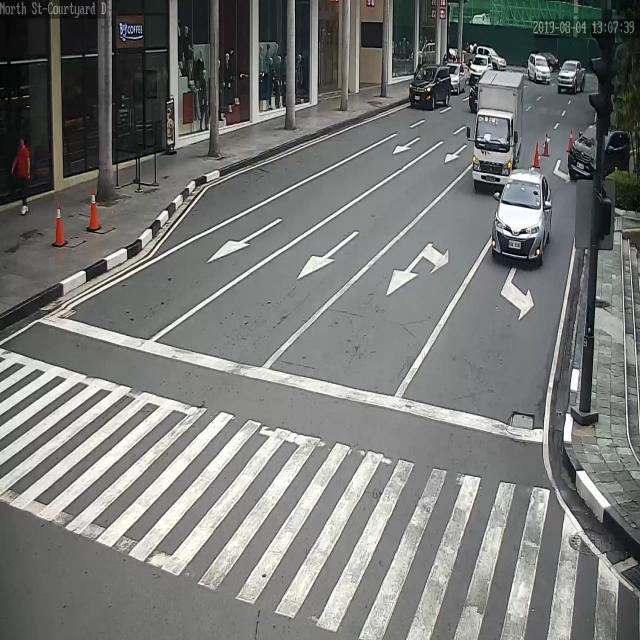car: (491, 170, 553, 263), (568, 122, 633, 182), (409, 66, 454, 110), (467, 44, 509, 73), (556, 61, 585, 94), (446, 61, 470, 93), (527, 54, 552, 84), (467, 54, 497, 79)
motorcycle: (473, 72, 527, 186)
